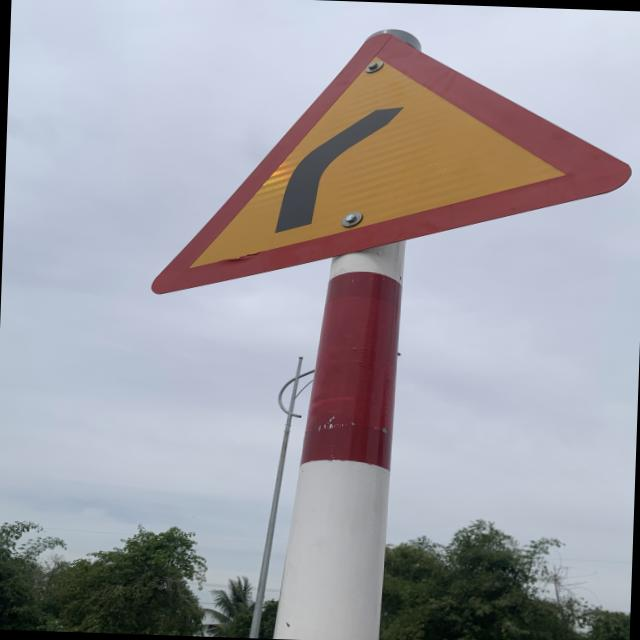Duong_Nguoi_Di_Bo_Cat_Ngang: (144, 22, 636, 312)
